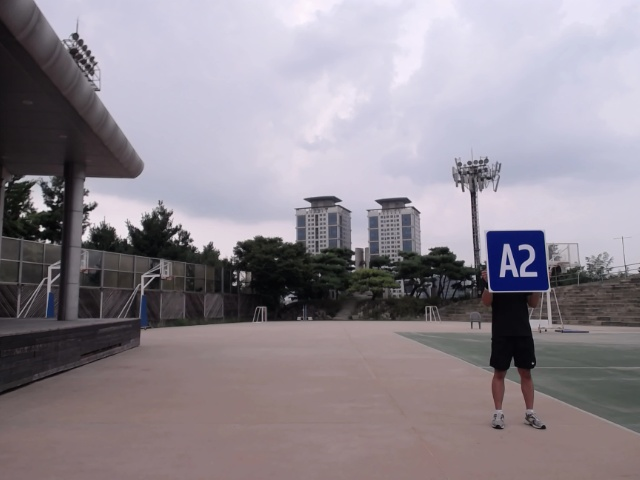delivery_a2: (486, 229, 551, 291)
